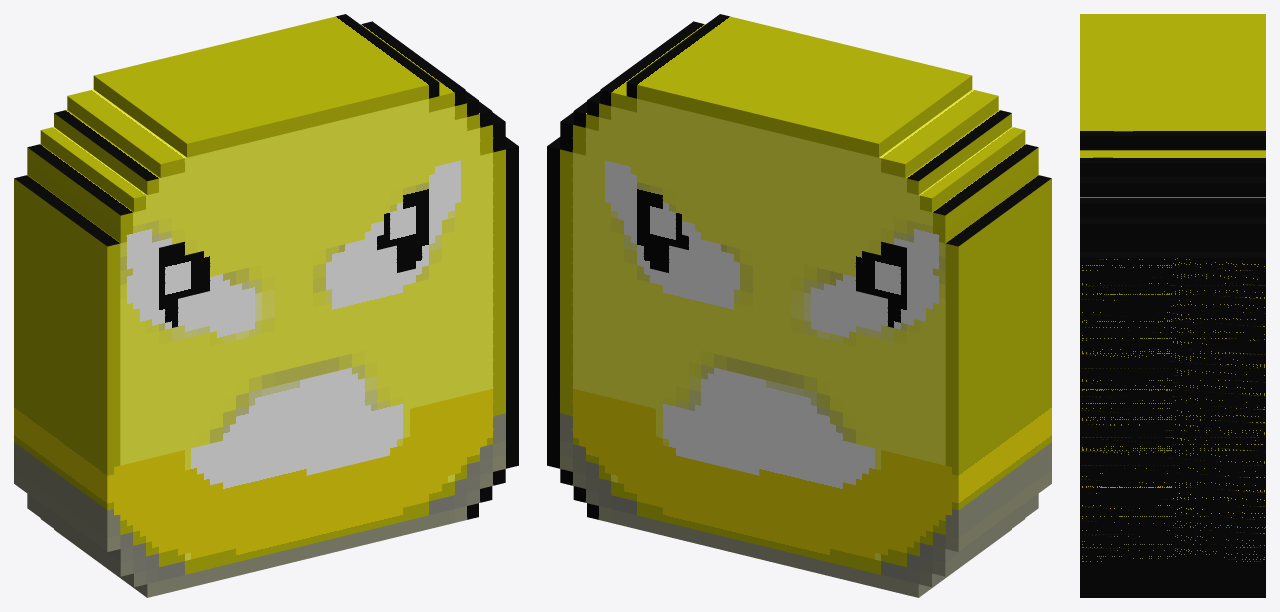
Rendered from spiney.glb.
3 renders of one model, left to right at view 1: azimuth 30°, elevation 25°; view 2: azimuth 150°, elevation 25°; view 3: azimuth 270°, elevation 25°, orthographic.
Visible parts, largest first — view 1: SUNNY-1_voxel; view 2: SUNNY-1_voxel; view 3: SUNNY-1_voxel.
Boxes of the visible parts, left/top/right/bottom form: SUNNY-1_voxel: left=14, top=14, right=518, bottom=597; SUNNY-1_voxel: left=547, top=14, right=1051, bottom=597; SUNNY-1_voxel: left=1080, top=14, right=1265, bottom=597.
Size of the model in its own units: 1.7 by 1.76 by 0.669.
1 material, 1 textured.
